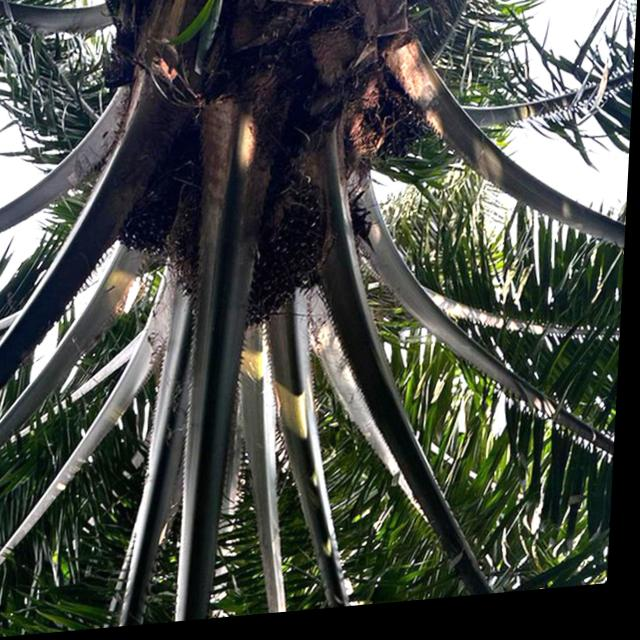unripe: (185, 164, 330, 339), (112, 113, 207, 263), (356, 83, 438, 176)
